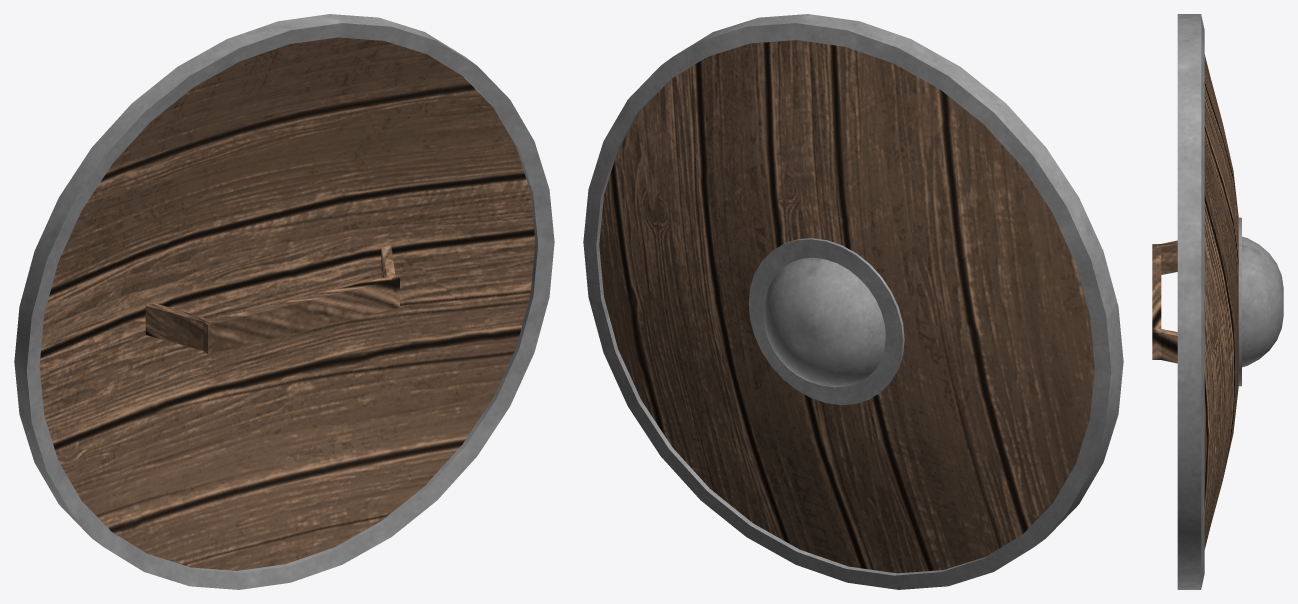
The model's file is wooden_round_shield.gltf.
3 views of the same model, side by side, from view 1: azimuth 30°, elevation 25°; view 2: azimuth 150°, elevation 25°; view 3: azimuth 270°, elevation 25° (orthographic). The views are drawn at different scales.
Parts seen in each view (by area): view 1: Circle; view 2: Circle; view 3: Circle.
Boxes of the visible parts, x1,y1,x2,y2 form: Circle: (14,14,554,589); Circle: (583,14,1123,589); Circle: (1152,14,1283,589).
Size of the model in its own units: 0.369 by 0.369 by 0.0841.
Materials: 1 (1 with a texture image).
